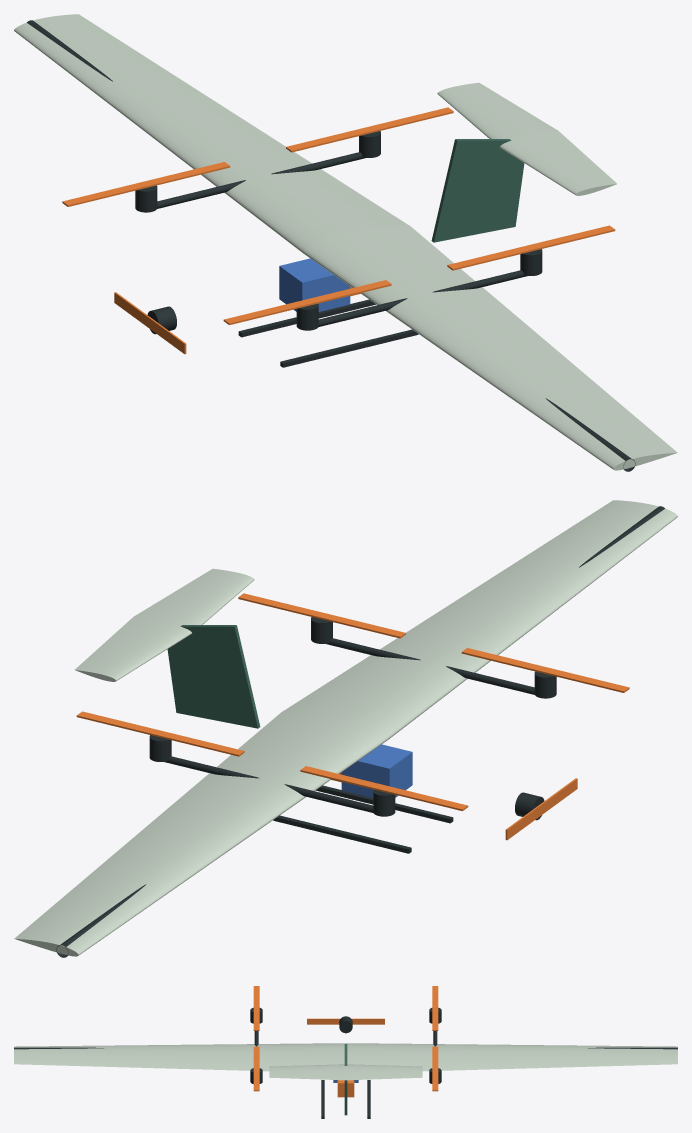
Rendered from 03-internal.glb.
3 views of the same model, one above another, from view 1: azimuth 30°, elevation 25°; view 2: azimuth 150°, elevation 25°; view 3: azimuth 270°, elevation 25° (orthographic). The views are drawn at different scales.
Parts seen in each view (by area): view 1: wing-1, wing1, fin, tail-1, tail1, payload, boom-1, prop_-1_700.0, boom1, prop_1_140.0, prop_-1_140.0, prop_1_700.0 (+4 smaller); view 2: wing1, wing-1, fin, tail1, tail-1, payload, boom1, boom-1, prop_1_700.0, prop_-1_140.0, prop_-1_700.0, prop_1_140.0 (+4 smaller); view 3: wing-1, wing1, tail-1, tail1, cruise_prop, wing_spar, prop_-1_700.0, prop_1_700.0, prop_-1_140.0, prop_1_140.0, battery, fin.
Part boxes in pixels (x1=…): wing-1: x1=303, y1=226, x2=677, y2=470; wing1: x1=14, y1=14, x2=409, y2=252; fin: x1=431, y1=139, x2=524, y2=242; tail-1: x1=500, y1=130, x2=616, y2=195; tail1: x1=437, y1=82, x2=557, y2=139; payload: x1=279, y1=258, x2=350, y2=311; boom-1: x1=318, y1=270, x2=527, y2=326; prop_-1_700.0: x1=447, y1=225, x2=615, y2=270; boom1: x1=157, y1=152, x2=366, y2=208; prop_1_140.0: x1=62, y1=162, x2=230, y2=206; prop_-1_140.0: x1=223, y1=280, x2=391, y2=324; prop_1_700.0: x1=286, y1=107, x2=453, y2=152; wing1: x1=14, y1=712, x2=388, y2=956; wing-1: x1=282, y1=500, x2=677, y2=738; fin: x1=167, y1=625, x2=260, y2=728; tail1: x1=75, y1=616, x2=191, y2=681; tail-1: x1=134, y1=568, x2=254, y2=625; payload: x1=341, y1=744, x2=412, y2=797; boom1: x1=164, y1=756, x2=373, y2=812; boom-1: x1=325, y1=638, x2=534, y2=694; prop_1_700.0: x1=76, y1=711, x2=244, y2=756; prop_-1_140.0: x1=461, y1=648, x2=629, y2=692; prop_-1_700.0: x1=238, y1=593, x2=405, y2=638; prop_1_140.0: x1=300, y1=766, x2=468, y2=810; wing-1: x1=14, y1=1043, x2=345, y2=1071; wing1: x1=346, y1=1043, x2=677, y2=1071; tail-1: x1=269, y1=1064, x2=345, y2=1080; tail1: x1=346, y1=1064, x2=422, y2=1080; cruise_prop: x1=307, y1=1018, x2=384, y2=1024; wing_spar: x1=14, y1=1047, x2=677, y2=1049; prop_-1_700.0: x1=253, y1=1046, x2=259, y2=1091; prop_1_700.0: x1=432, y1=1046, x2=438, y2=1091; prop_-1_140.0: x1=253, y1=986, x2=259, y2=1030; prop_1_140.0: x1=432, y1=986, x2=438, y2=1030; battery: x1=337, y1=1080, x2=354, y2=1097; fin: x1=344, y1=1044, x2=347, y2=1115.
Bounding box in the file's own units: 1033 × 393 × 2600.
